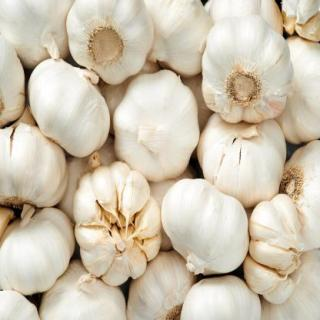Bawang Putih: (75, 163, 163, 287), (202, 16, 295, 125), (113, 70, 201, 184), (162, 179, 249, 275), (30, 58, 110, 155), (67, 1, 156, 86), (4, 208, 77, 295), (250, 193, 304, 305), (2, 126, 69, 212)
